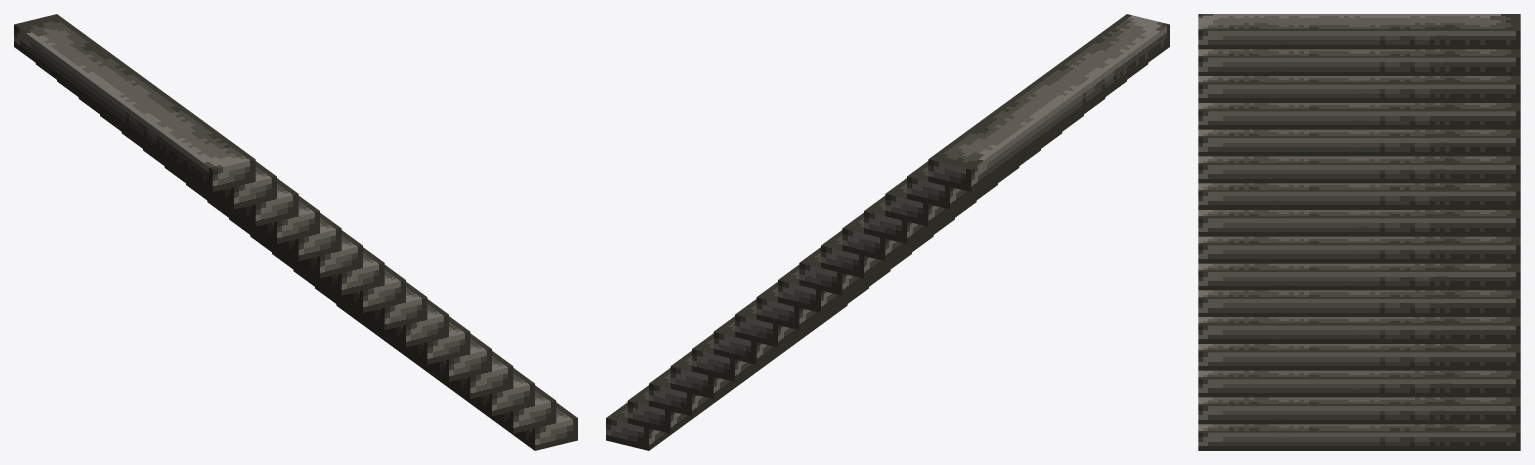
The model's file is Stair_Steep_2.fbx.
The picture shows the model from 3 angles, left to right: view 1: azimuth 30°, elevation 25°; view 2: azimuth 150°, elevation 25°; view 3: azimuth 270°, elevation 25°; orthographic projection. The views are drawn at different scales.
Visible parts, largest first — view 1: Stair_Steep_2; view 2: Stair_Steep_2; view 3: Stair_Steep_2.
Boxes of the visible parts, x1=… form: Stair_Steep_2: x1=14, y1=14, x2=577, y2=450; Stair_Steep_2: x1=606, y1=14, x2=1169, y2=450; Stair_Steep_2: x1=1198, y1=14, x2=1520, y2=450.
Bounding box in the file's own units: 425 × 400 × 400.
1 material, 1 textured.
